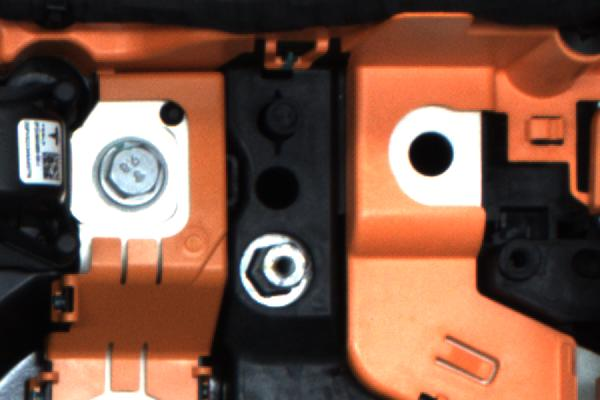nut_b: (87, 135, 193, 220)
